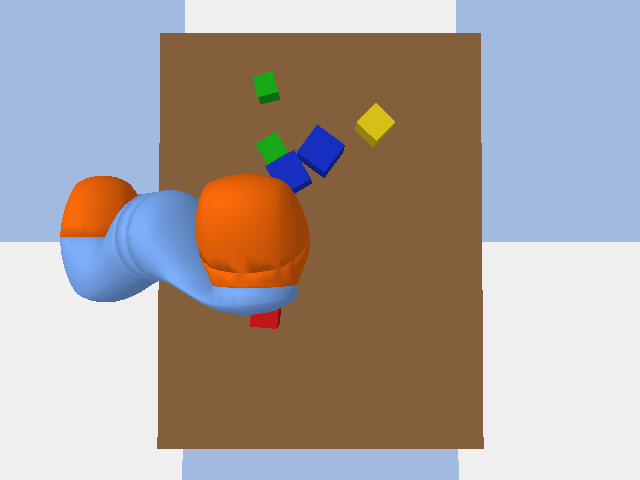blue_obj: (297, 125, 344, 177), (265, 150, 311, 193)
green_obj: (255, 132, 287, 164), (252, 71, 279, 104)
red_obj: (250, 308, 280, 328)
yellow_obj: (355, 103, 394, 146)
